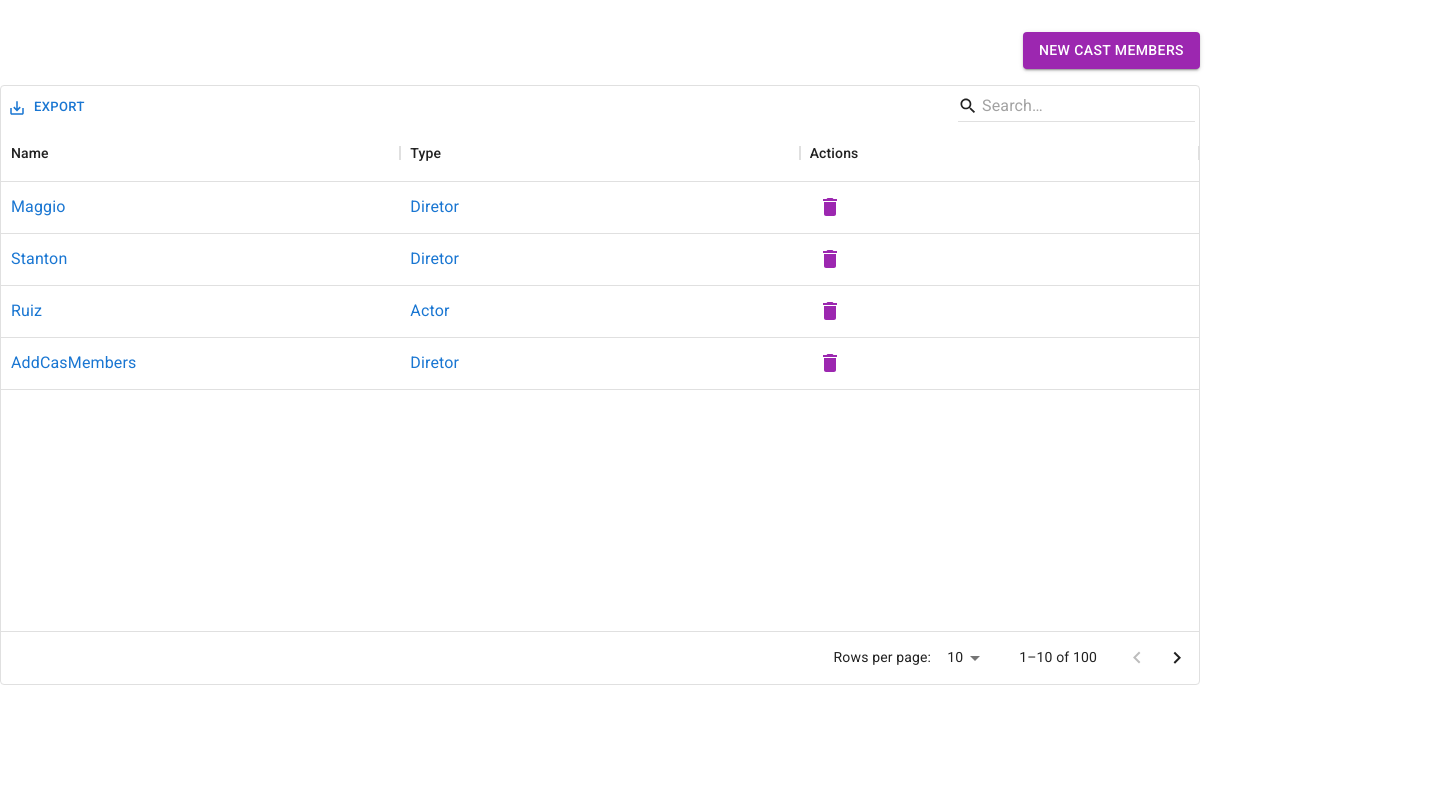
it: CreateCastMember › should error when delete
The image size is (1440, 810).
Click the button with test id "delete-button" in the row of "Maggio" at (830, 207), box [810, 187, 850, 227]
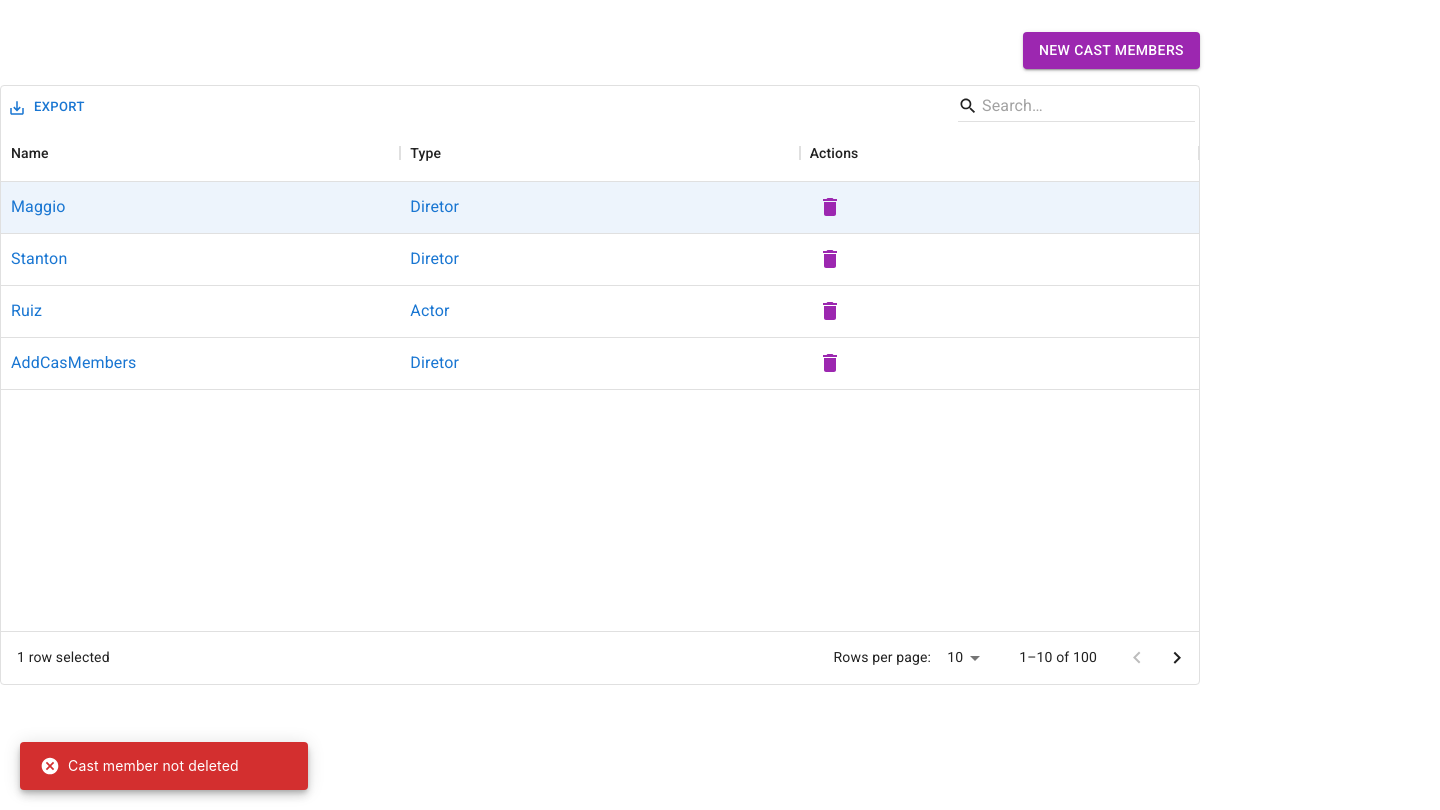
Check: the text "Cast member not deleted" is shown, box [40, 756, 239, 776]
